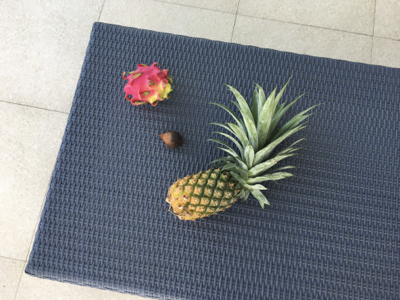dragon fruit: (123, 63, 176, 106)
pineapple: (167, 78, 319, 222)
snake fruit: (158, 130, 185, 150)
